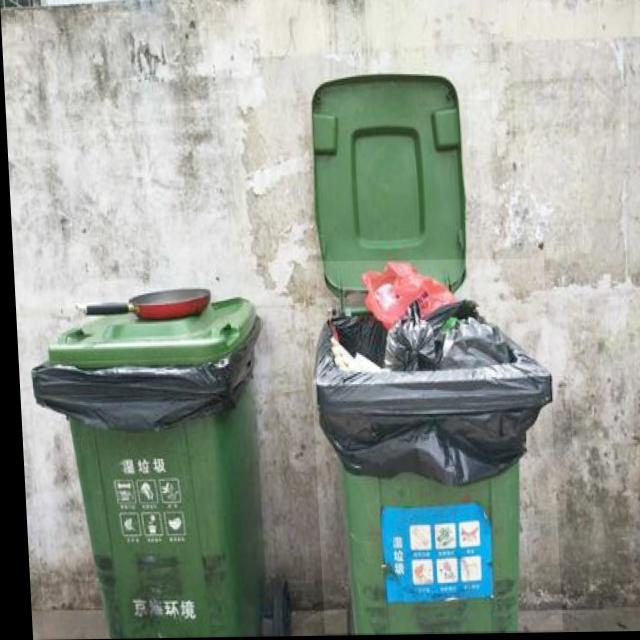overflow: (303, 260, 556, 635), (23, 287, 271, 638)
